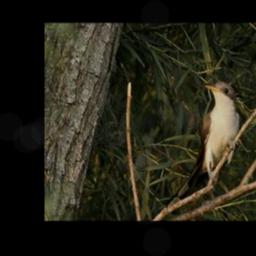Cuckoo: (163, 80, 242, 212)
